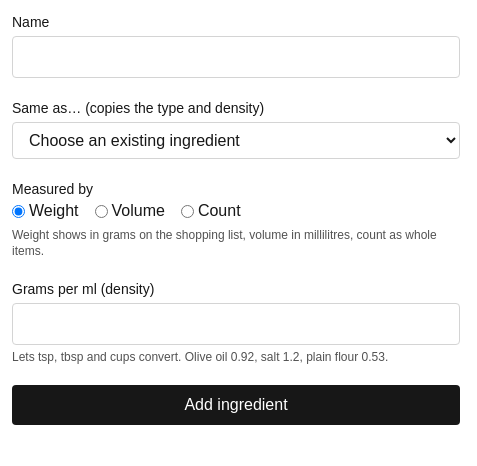
Scenario: IngredientForm › shows the errors the action returns
Type "Egg" into the field labelled "Name" at (236, 57), box x1=12 y1=36 x2=460 y2=78
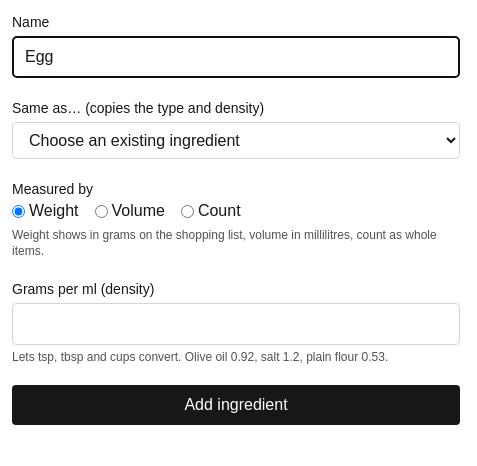
Click the button "Add ingredient" at (236, 405), box x1=12 y1=385 x2=460 y2=425
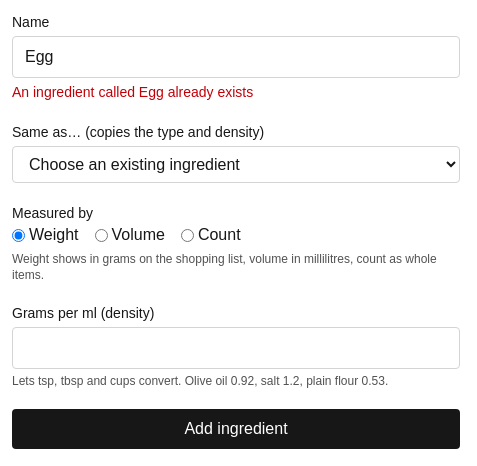
Result: the text "An ingredient called Egg already exists" is shown at x1=12 y1=84 x2=253 y2=100
